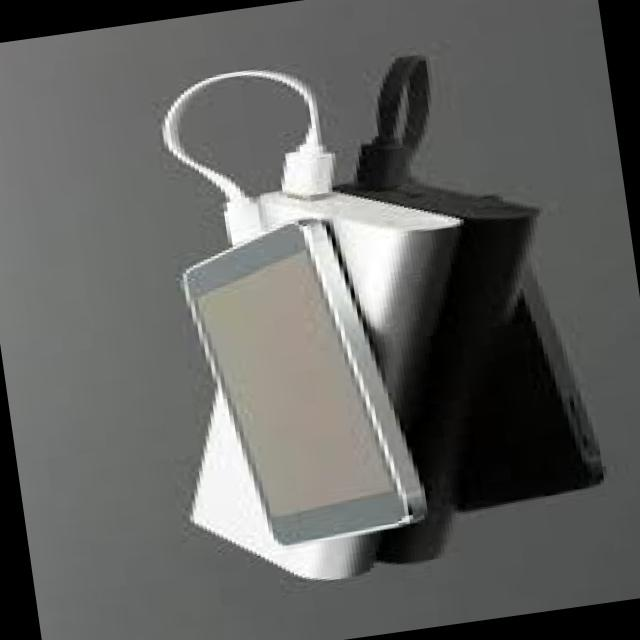power_bank: (134, 150, 555, 606)
